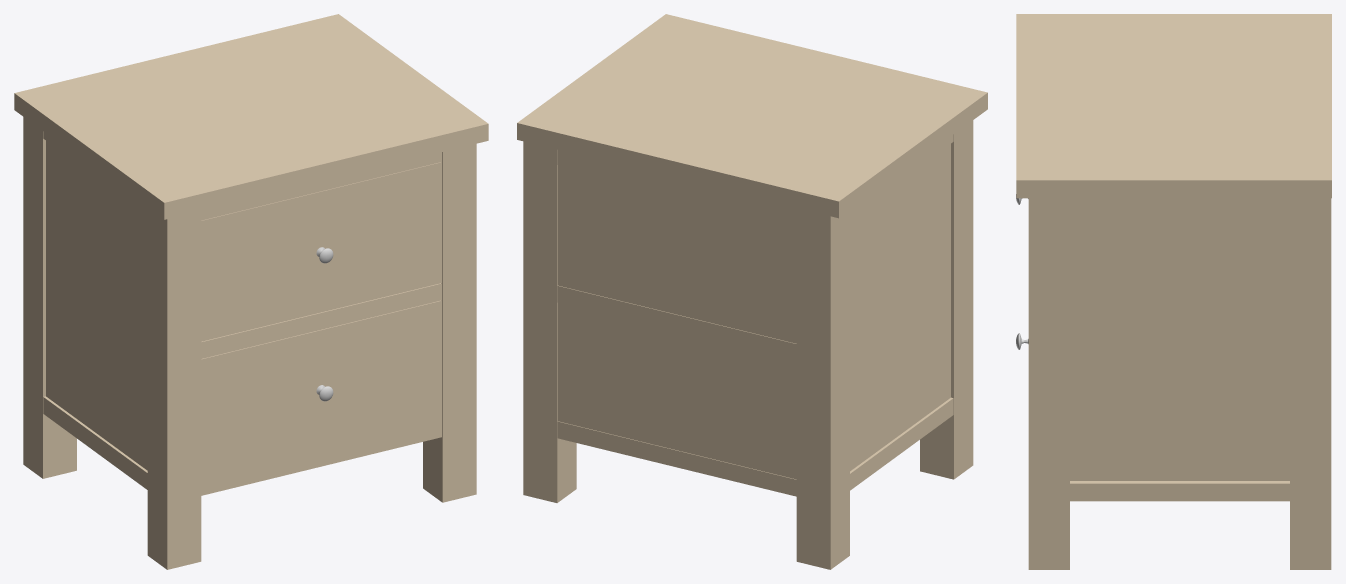
File: nightstand.fbx
The picture shows the model from 3 angles, left to right: view 1: azimuth 30°, elevation 25°; view 2: azimuth 150°, elevation 25°; view 3: azimuth 270°, elevation 25°; orthographic projection. The views are drawn at different scales.
Visible parts, largest first — view 1: 14308_Farmhouse_Night_Table-Pine_V1_l1; view 2: 14308_Farmhouse_Night_Table-Pine_V1_l1; view 3: 14308_Farmhouse_Night_Table-Pine_V1_l1.
Boxes of the visible parts, x1,y1,x2,y2 form: 14308_Farmhouse_Night_Table-Pine_V1_l1: (14,14,488,569); 14308_Farmhouse_Night_Table-Pine_V1_l1: (517,14,987,569); 14308_Farmhouse_Night_Table-Pine_V1_l1: (1016,14,1331,569).
Bounding box in the file's own units: 6934 × 7630 × 5562.
